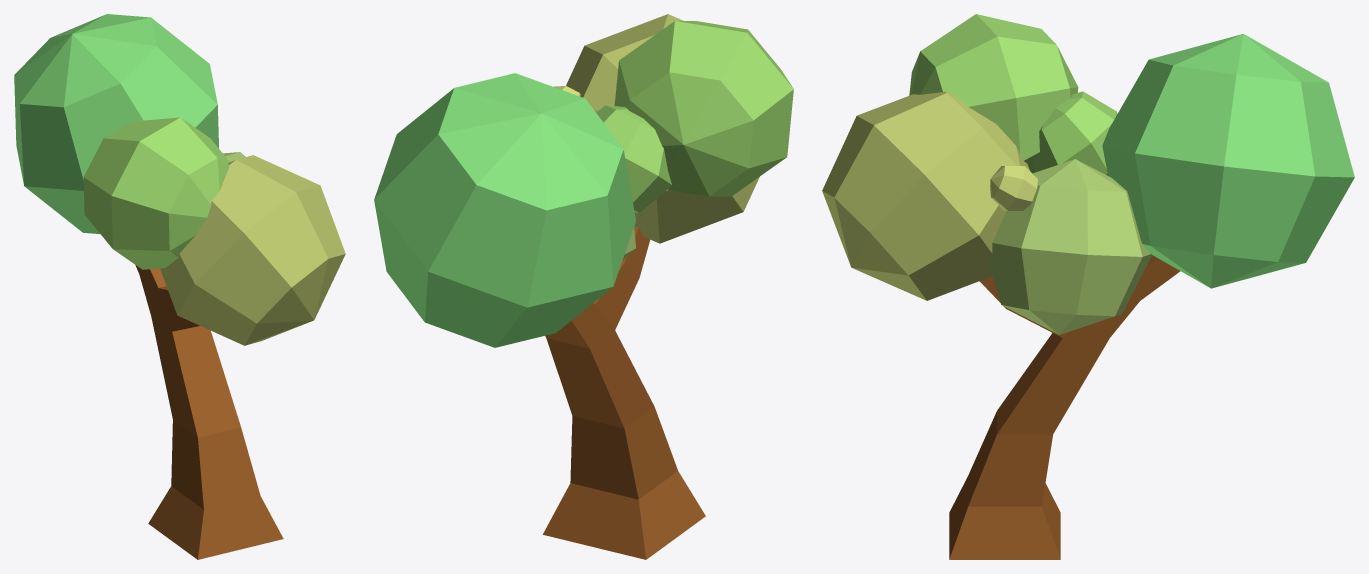
Rendered from low_poly_tree_FBX.fbx.
3 renders of one model, left to right at view 1: azimuth 30°, elevation 25°; view 2: azimuth 150°, elevation 25°; view 3: azimuth 270°, elevation 25°, orthographic. The views are drawn at different scales.
Visible parts, largest first — view 1: Esfera_3, Esfera, Cubo, Esfera_4; view 2: Esfera_3, Cubo, Esfera_4, Esfera, Esfera_5; view 3: Esfera_3, Esfera, Cubo, Esfera_1, Esfera_4, Esfera_5, Esfera_2.
Boxes of the visible parts, x1,y1,x2,y2 form: Esfera_3: [14, 14, 218, 234]; Esfera: [160, 155, 345, 345]; Cubo: [135, 265, 283, 559]; Esfera_4: [83, 117, 229, 269]; Esfera_3: [374, 73, 635, 347]; Cubo: [543, 227, 705, 559]; Esfera_4: [614, 21, 793, 196]; Esfera: [566, 14, 759, 243]; Esfera_5: [596, 105, 671, 212]; Esfera_3: [1102, 34, 1354, 288]; Esfera: [822, 91, 1029, 300]; Cubo: [949, 255, 1180, 559]; Esfera_1: [988, 159, 1151, 334]; Esfera_4: [909, 14, 1078, 173]; Esfera_5: [1033, 91, 1117, 175]; Esfera_2: [990, 166, 1037, 210].
Bounding box in the file's own units: 637 × 1192 × 1193.
